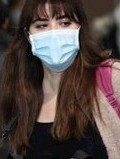with_mask: (18, 1, 91, 68)
